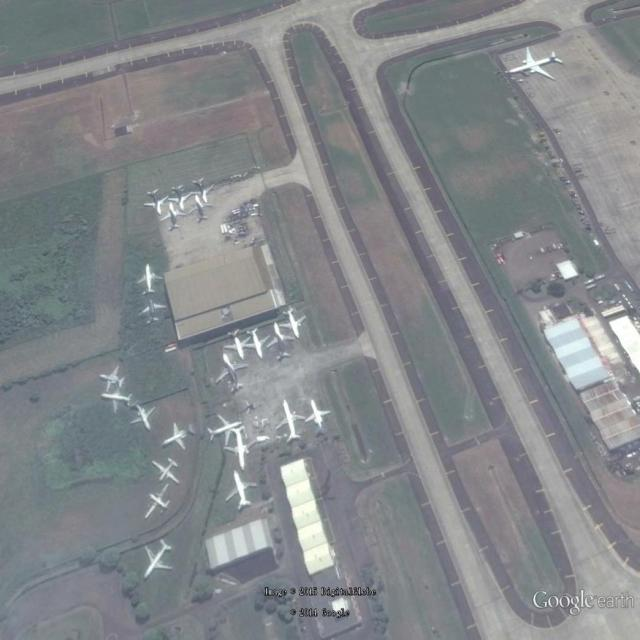aircraft: (501, 44, 567, 81), (220, 424, 260, 475), (271, 397, 308, 446), (213, 349, 250, 397), (224, 469, 261, 512), (144, 536, 177, 584), (266, 320, 299, 365), (205, 412, 246, 448), (132, 263, 168, 299), (305, 397, 335, 439), (221, 326, 254, 362), (243, 327, 275, 364), (162, 422, 197, 454), (277, 307, 309, 341), (135, 297, 168, 328), (143, 484, 172, 519), (152, 458, 183, 489), (140, 187, 170, 219), (129, 403, 159, 435), (98, 366, 129, 396), (100, 391, 135, 415), (168, 183, 195, 214), (192, 177, 216, 209)
